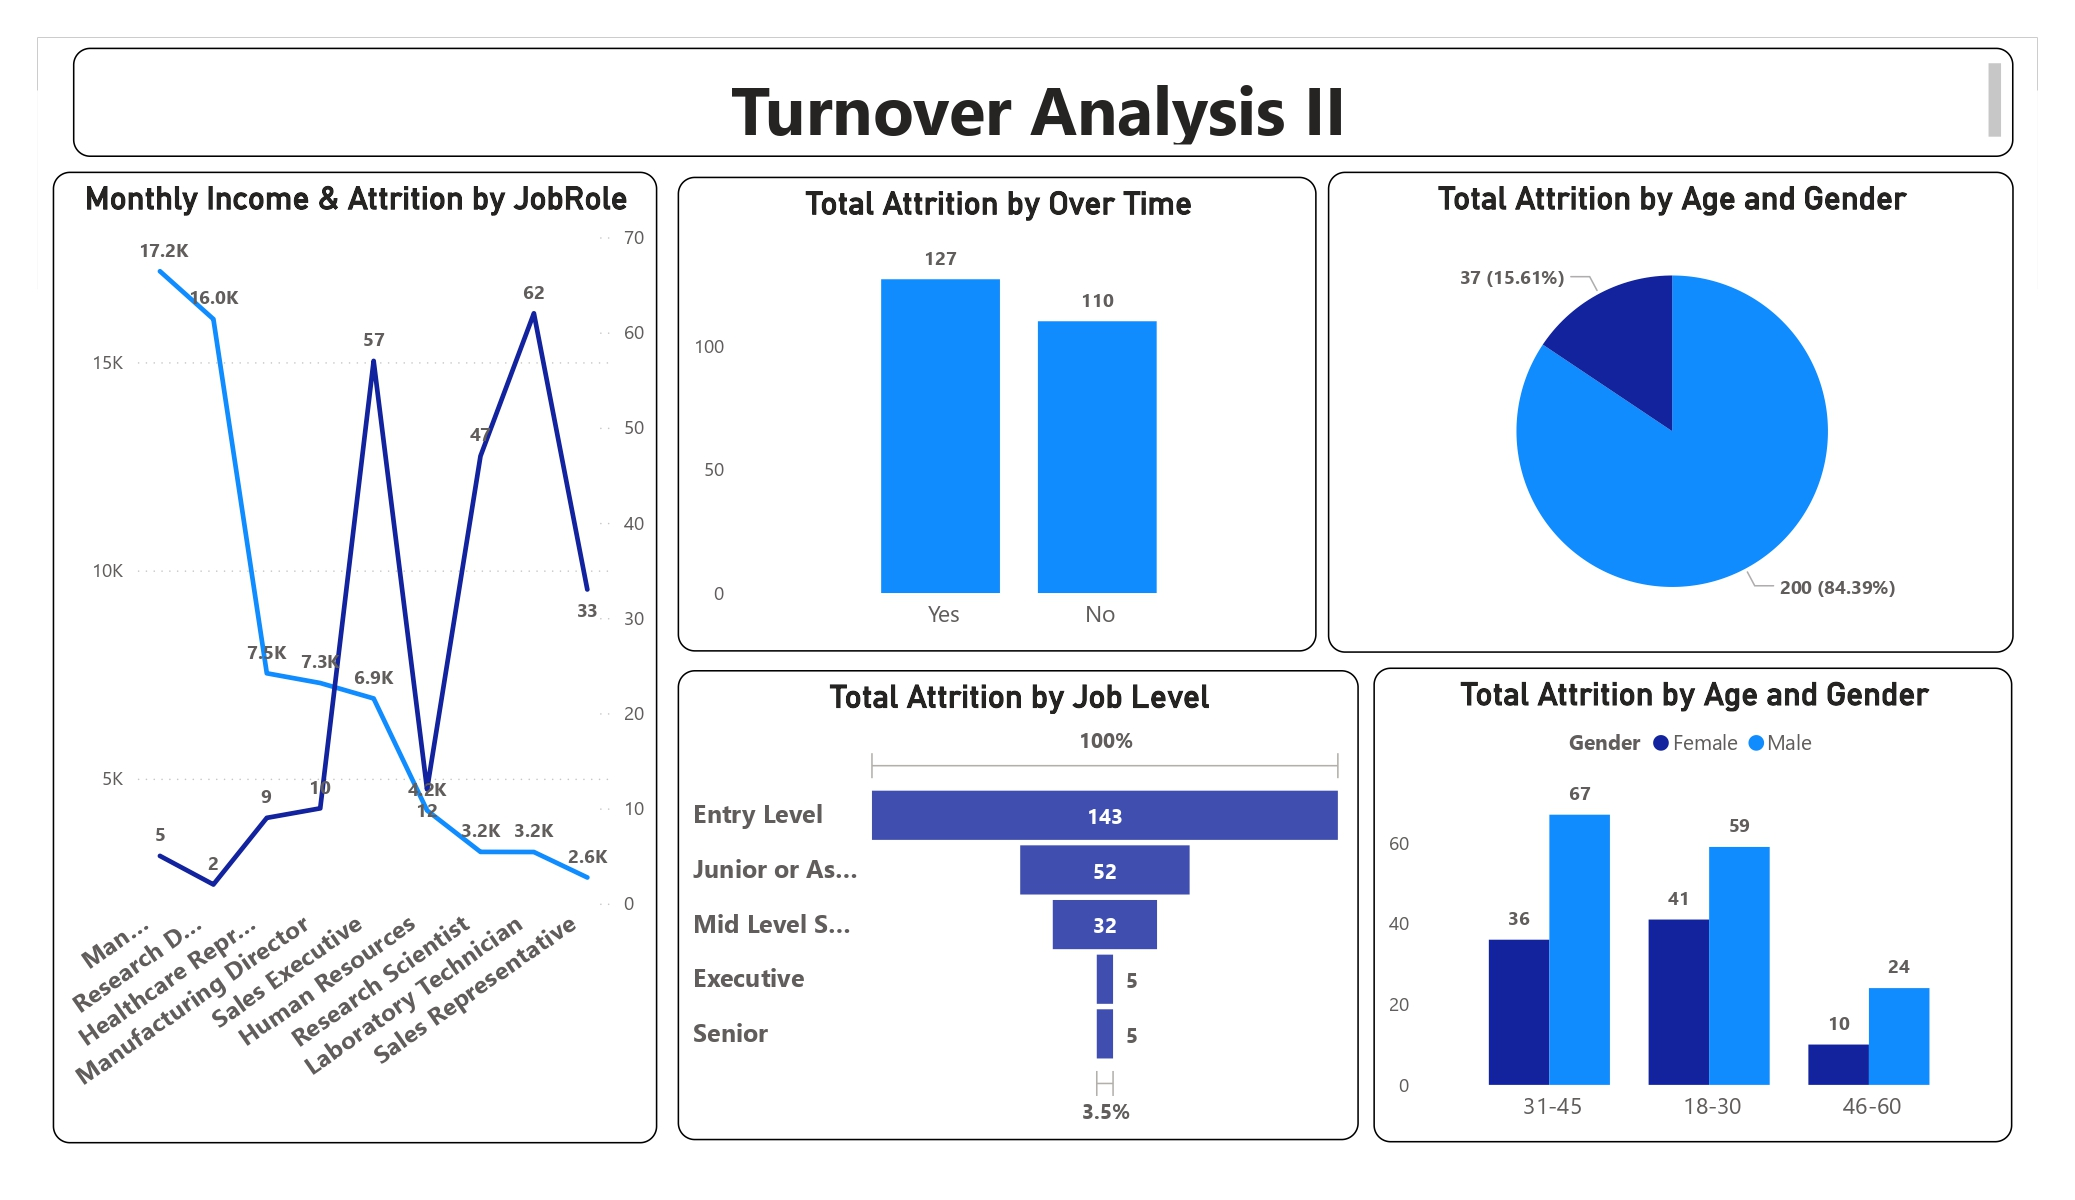

Layout of this report page (visuals, bound fields, positions):
{"tool":"powerbi","page":{"name":"Turnover Analysis 2","canvas":[1280,720],"ordinal":2},"visuals":[{"type":"textbox","box":[22.7,6.5,1241.9,69.6],"z":0},{"type":"clusteredColumnChart","title":"Total Attrition by Age and Gender","fields":{"Category":["HR-Employee-Attrition.Age Group"],"Y":["Sum(HR-Employee-Attrition.Attrition1)"],"Series":["HR-Employee-Attrition.Gender"]},"box":[854.7,403,409.1,303.8],"z":1000},{"type":"pieChart","title":"Total Attrition by Age and Gender","fields":{"Y":["Sum(HR-Employee-Attrition.Attrition1)"],"Category":["HR-Employee-Attrition.PerformanceRating"]},"box":[825.8,85.8,438.8,307.7],"z":2000},{"type":"funnel","title":"Total Attrition by Job Level","fields":{"Y":["Sum(HR-Employee-Attrition.Attrition1)"],"Category":["HR-Employee-Attrition.JobLevel - Updated"]},"box":[409.7,404.8,435.6,301.2],"z":3000},{"type":"lineChart","title":"Monthly Income & Attrition by JobRole","fields":{"Category":["HR-Employee-Attrition.JobRole"],"Y":["Avg(HR-Employee-Attrition.MonthlyIncome)"],"Y2":["Sum(HR-Employee-Attrition.Attrition1)"]},"box":[10.1,85.1,386.8,621.8],"z":4000},{"type":"clusteredColumnChart","title":"Total Attrition by Over Time","fields":{"Category":["HR-Employee-Attrition.OverTime"],"Y":["Sum(HR-Employee-Attrition.Attrition1)"]},"box":[409.1,89.1,409.1,303.8],"z":4001}]}

Visuals, with their boxes in screenshot pixels (x1, y1, x2, y2):
textbox: crop(73, 48, 2013, 156)
"Total Attrition by Age and Gender" clusteredColumnChart: crop(1373, 667, 2012, 1142)
"Total Attrition by Age and Gender" pieChart: crop(1328, 172, 2013, 652)
"Total Attrition by Job Level" funnel: crop(678, 670, 1358, 1141)
"Monthly Income & Attrition by JobRole" lineChart: crop(53, 170, 658, 1142)
"Total Attrition by Over Time" clusteredColumnChart: crop(677, 177, 1316, 651)
